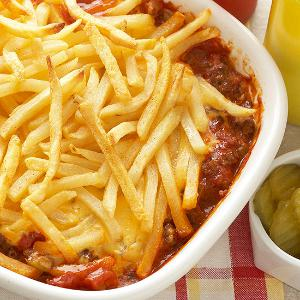fries_350cal: (4, 2, 199, 249)
